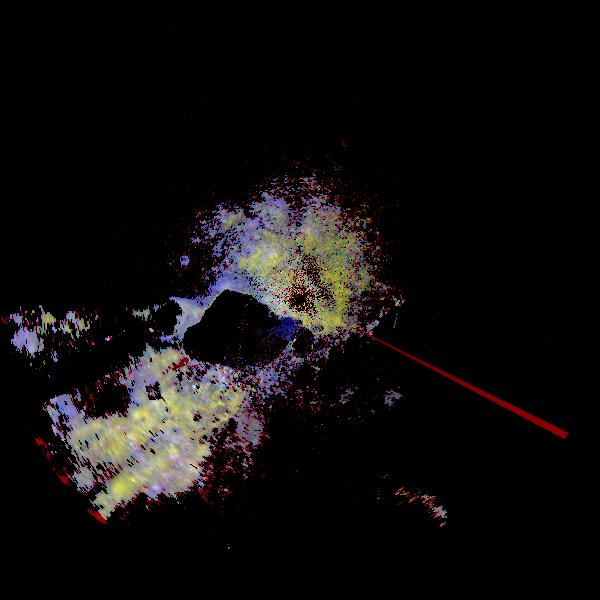roost: (350, 461, 482, 593)
